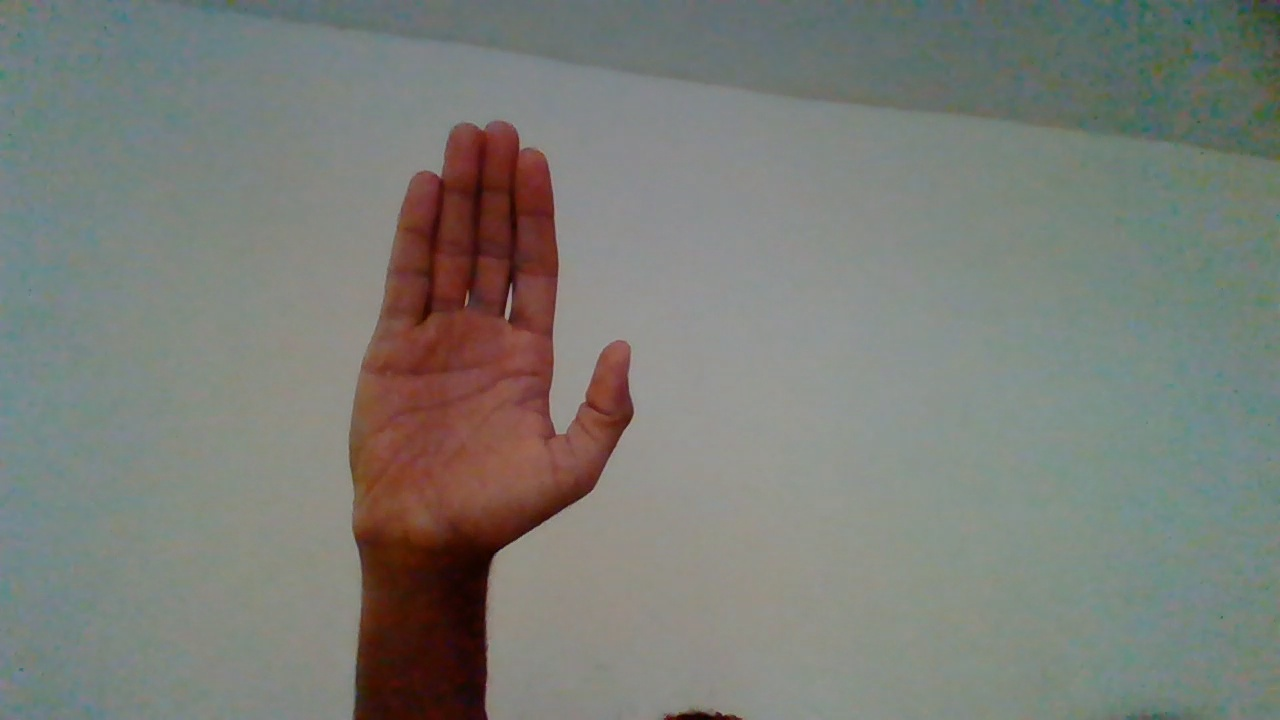ha: (346, 112, 643, 655)
